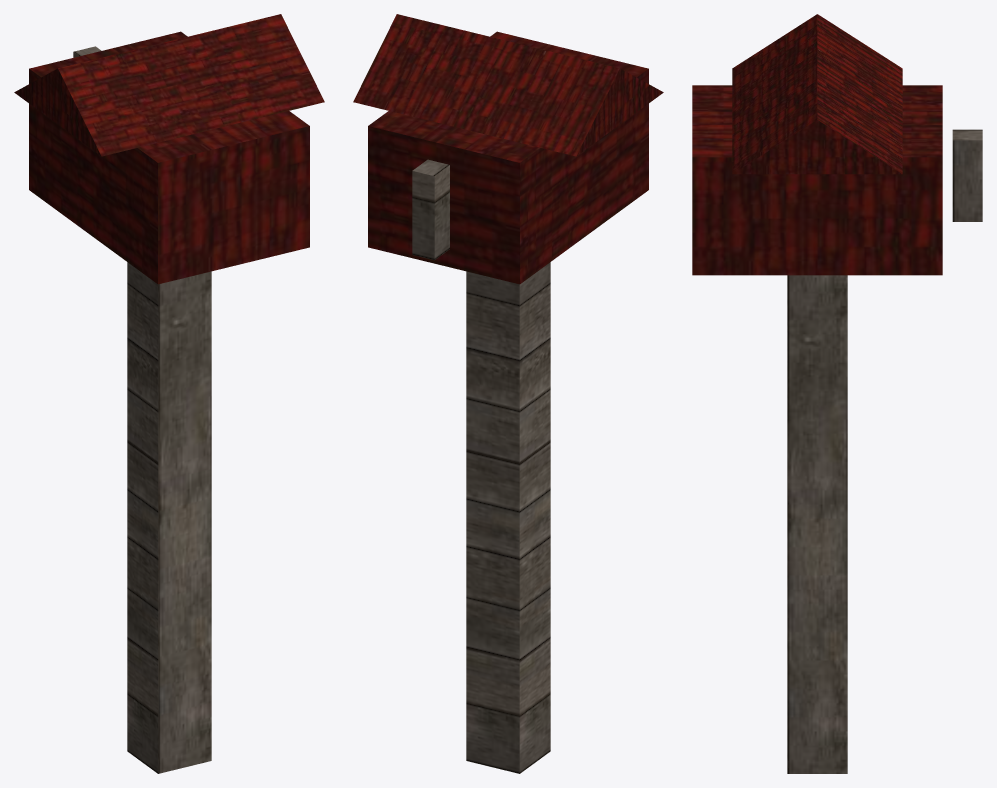
Rendered from mailbox_01.glb.
3 views of the same model, side by side, from view 1: azimuth 30°, elevation 25°; view 2: azimuth 150°, elevation 25°; view 3: azimuth 270°, elevation 25° (orthographic). The views are drawn at different scales.
Parts seen in each view (by area): view 1: mailbox_01; view 2: mailbox_01; view 3: mailbox_01.
Boxes of the visible parts, left/top/right/bottom form: mailbox_01: left=14, top=14, right=324, bottom=773; mailbox_01: left=353, top=14, right=663, bottom=773; mailbox_01: left=692, top=14, right=982, bottom=773.
Size of the model in its own units: 0.5 by 1.53 by 0.58.
2 materials, 2 textured.
